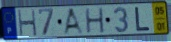3: (112, 5, 130, 34)
7: (38, 8, 56, 38)
A: (62, 7, 86, 36)
H: (17, 8, 39, 38), (84, 6, 106, 35)
L: (134, 6, 152, 33)
